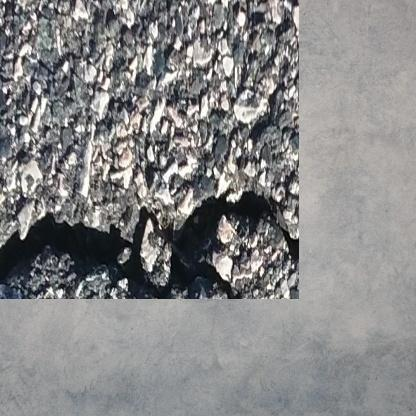Cracks: (0, 175, 276, 276)
